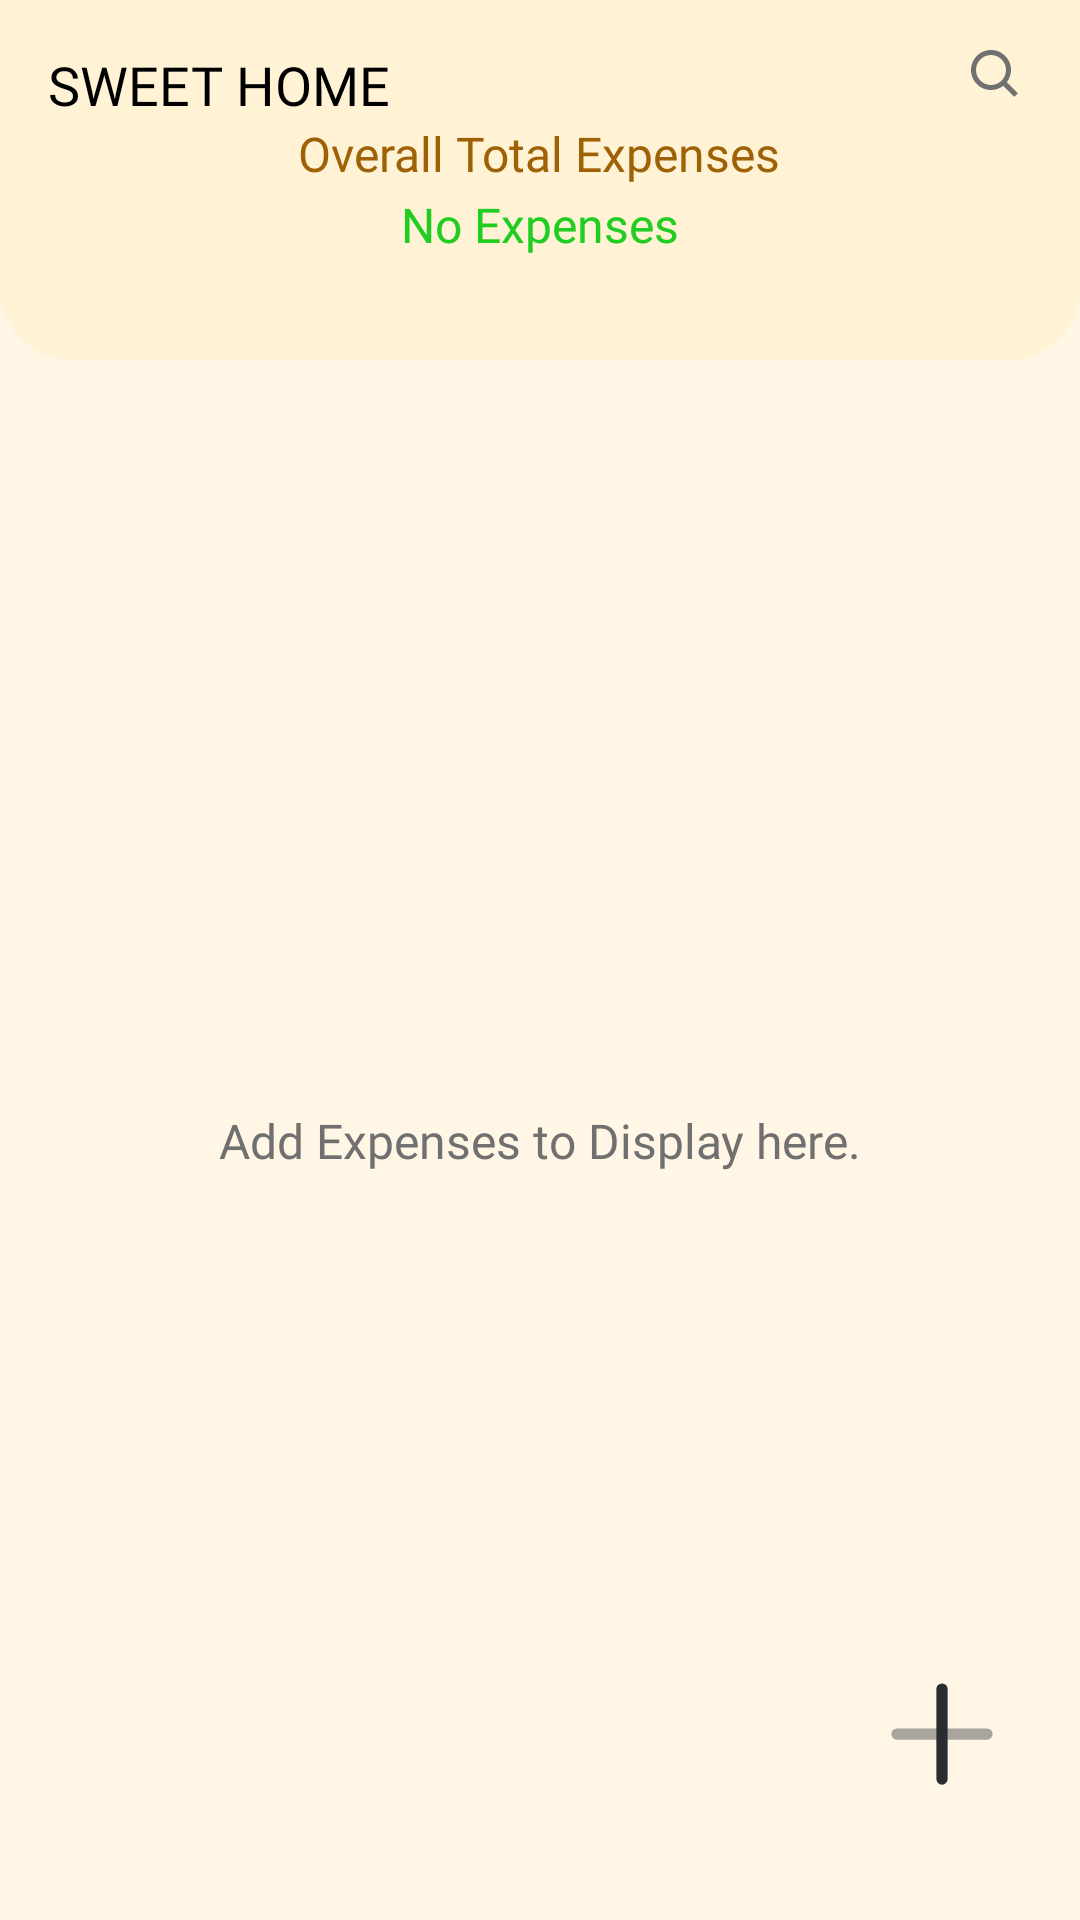

Icons on this 1080w x 1920h Android screen, each with the point to tap as (x,y):
add: (942,1734)
search: (994,73)
